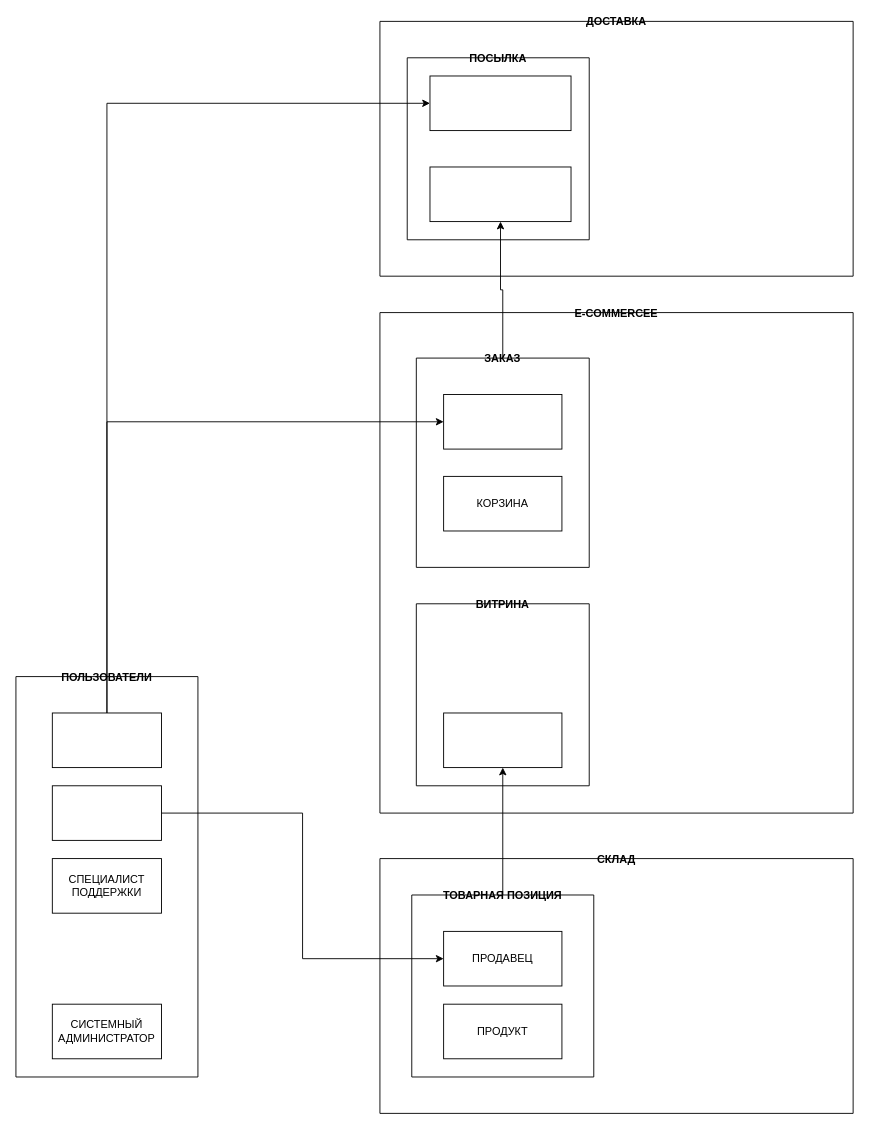
This 869x1129 diagram has some shape labels left out. The shapes that lost their labels are listed below. From the top down, each one's centre as x and y in pixels, then its label:
point (500, 103): ПОЛУЧАТЕЛЬ
point (500, 194): ГРУЗ
point (502, 421): ЗАКАЗЧИК
point (106, 740): ПОКУПАТЕЛЬ
point (502, 740): ТОВАР
point (106, 812): ВЛАДЕЛЕЦ МАГАЗИНА
